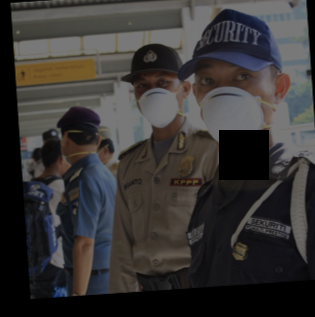with_mask: (194, 59, 275, 150), (133, 71, 183, 129)
